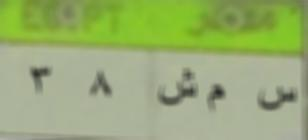3: (26, 62, 57, 103)
8: (85, 66, 116, 103)
meem: (204, 81, 227, 117)
seen: (253, 79, 298, 118)
sheen: (154, 63, 199, 111)
